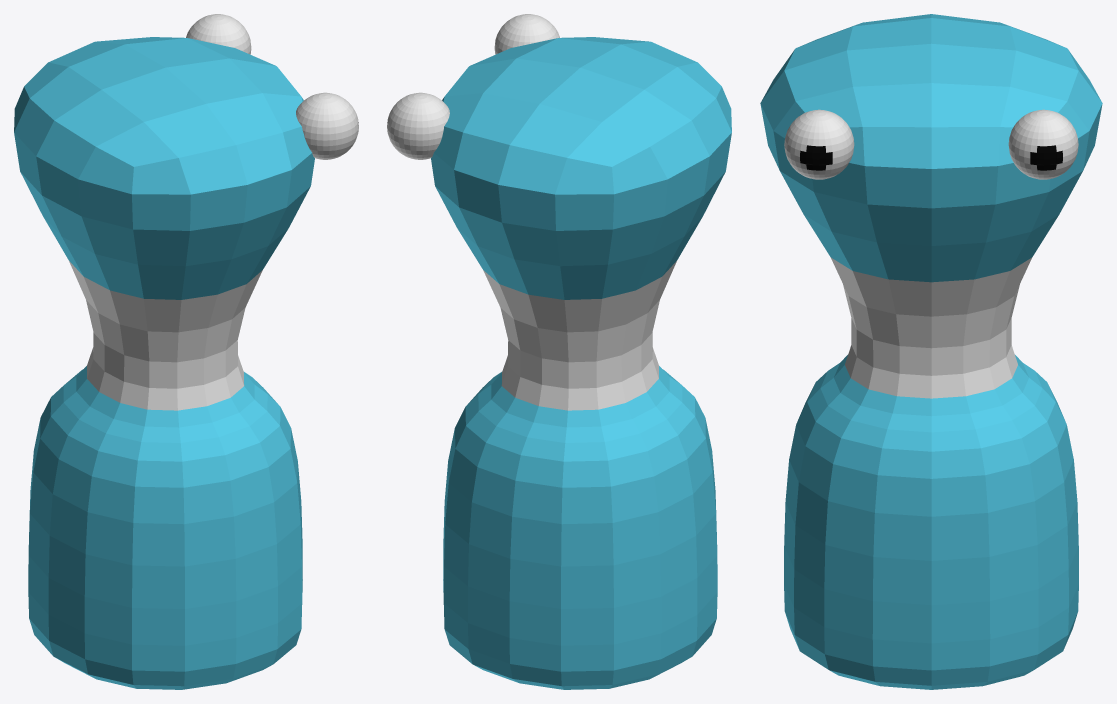
The model's file is player1a.fbx.
3 views of the same model, side by side, from view 1: azimuth 30°, elevation 25°; view 2: azimuth 150°, elevation 25°; view 3: azimuth 270°, elevation 25° (orthographic). The views are drawn at different scales.
Visible parts, largest first — view 1: Cube.002, Sphere; view 2: Cube.002, Sphere; view 3: Cube.002, Sphere.
Boxes of the visible parts, x1,y1,x2,y2 form: Cube.002: [14, 37, 314, 689]; Sphere: [186, 14, 358, 159]; Cube.002: [431, 37, 731, 689]; Sphere: [387, 14, 559, 159]; Cube.002: [760, 14, 1102, 689]; Sphere: [784, 109, 1078, 179].
Bounding box in the file's own units: 908 × 1903 × 976.
